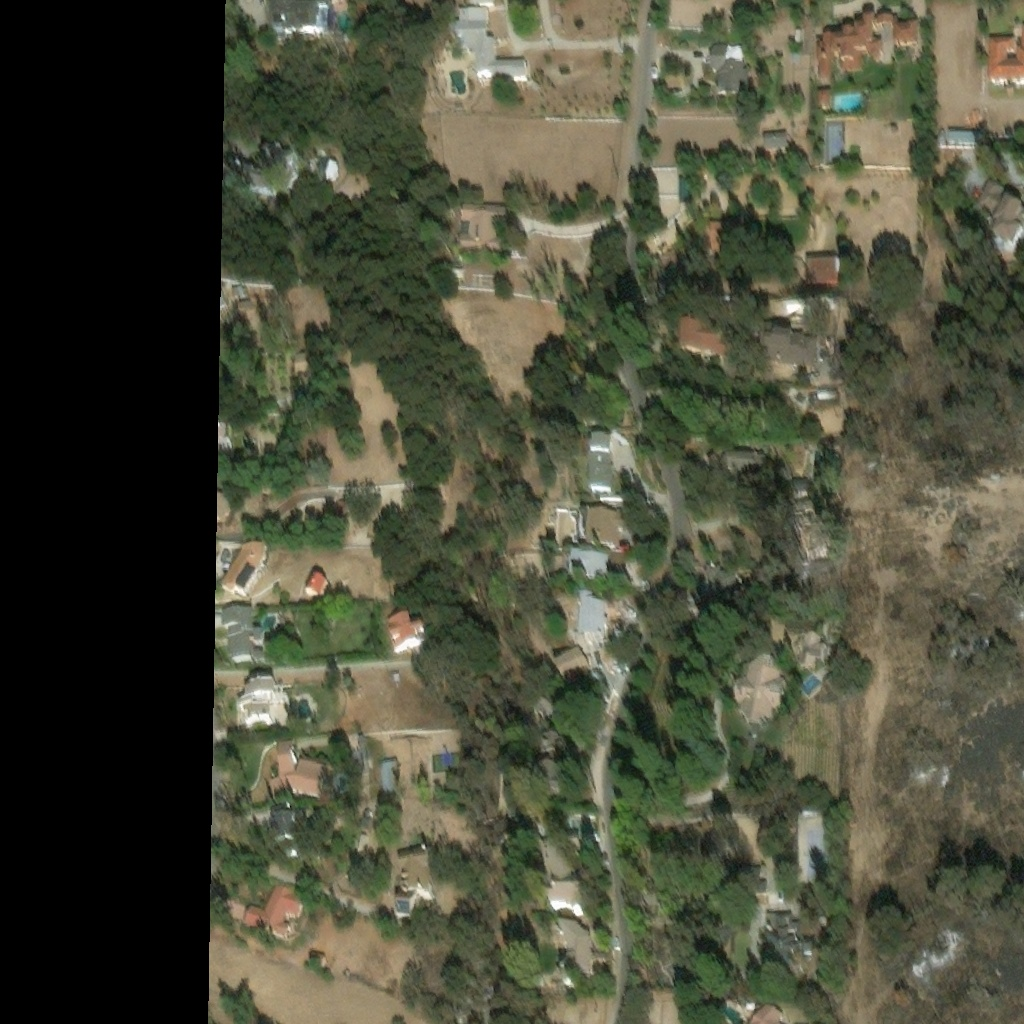0 no-damage: (817, 17, 918, 83), (455, 6, 528, 79), (539, 828, 595, 919), (220, 146, 302, 206), (732, 659, 789, 731), (241, 878, 307, 935), (974, 175, 1023, 251), (271, 742, 332, 799), (763, 910, 815, 976), (781, 493, 832, 560), (449, 202, 510, 255), (217, 544, 269, 604), (751, 327, 822, 369), (396, 850, 435, 922), (768, 296, 839, 334), (222, 609, 270, 663), (237, 681, 288, 729), (268, 0, 329, 40), (382, 612, 432, 659), (796, 618, 840, 670), (571, 369, 629, 408), (709, 40, 749, 95), (537, 734, 569, 800), (986, 24, 1023, 81), (555, 920, 592, 977), (587, 509, 634, 548), (678, 323, 727, 355), (586, 435, 615, 488), (553, 644, 591, 683), (577, 589, 606, 640), (701, 560, 739, 597), (214, 497, 248, 538), (812, 443, 842, 486), (936, 126, 1012, 142), (804, 246, 841, 278), (270, 806, 298, 847), (723, 447, 765, 473), (707, 217, 744, 246), (570, 551, 609, 578), (825, 114, 844, 162), (748, 999, 784, 1023), (215, 430, 234, 474), (303, 571, 329, 599), (382, 760, 402, 795), (329, 497, 352, 527), (295, 352, 315, 382), (761, 129, 789, 149), (678, 171, 697, 199), (810, 388, 841, 400), (445, 267, 465, 285), (235, 287, 250, 305), (791, 475, 809, 490), (308, 948, 325, 962), (817, 90, 830, 108), (538, 538, 550, 552), (218, 296, 229, 311)
